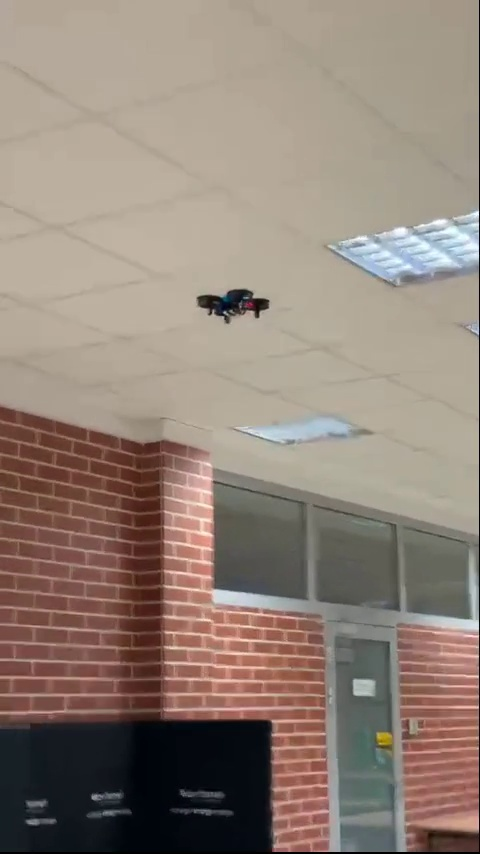drone: (193, 286, 271, 326)
